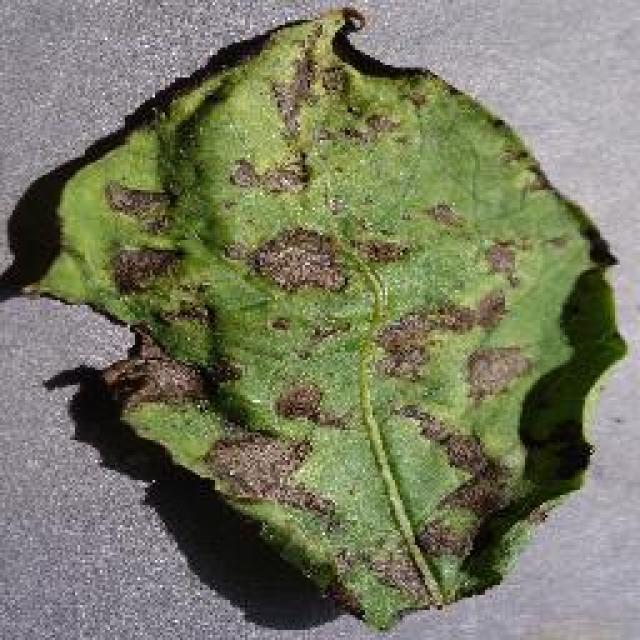early_blight: (15, 2, 630, 632)
